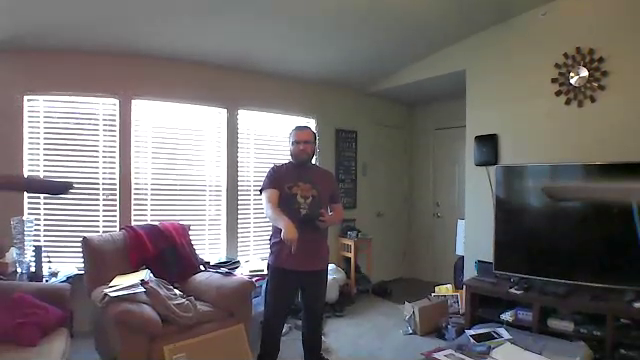down: (276, 215, 303, 263)
